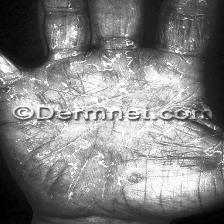Non-Cancerous Skin Condition: (0, 0, 215, 110), (0, 120, 224, 224)
